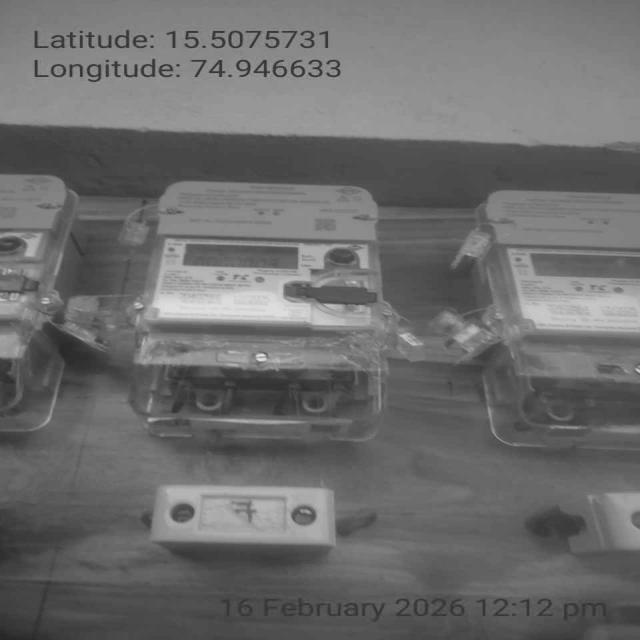meter: (160, 235, 403, 330)
